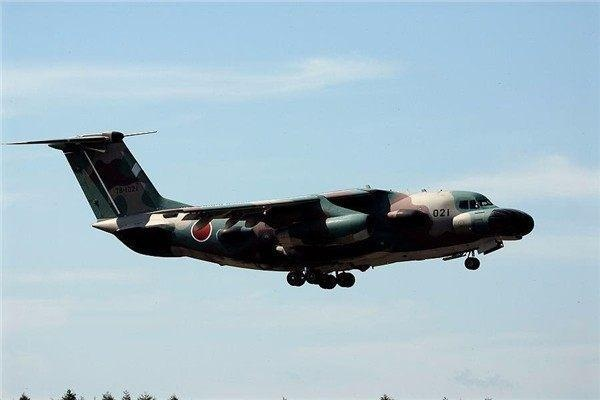airplane: (7, 130, 547, 289)
